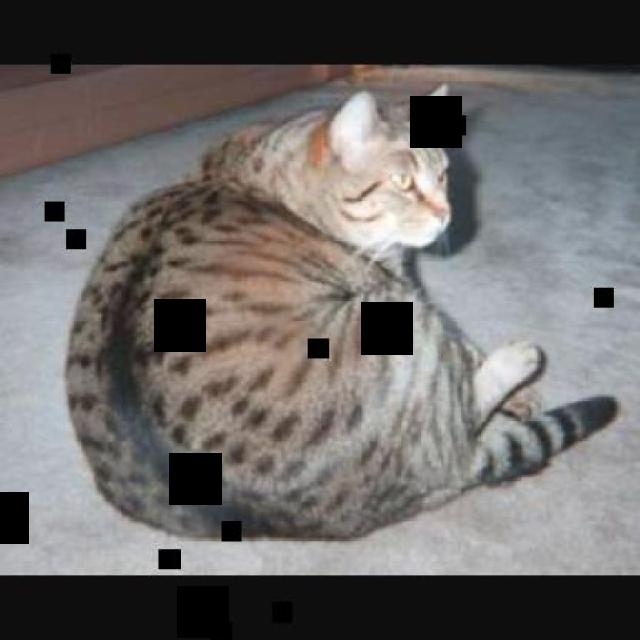unauthorized: (63, 80, 619, 542)
